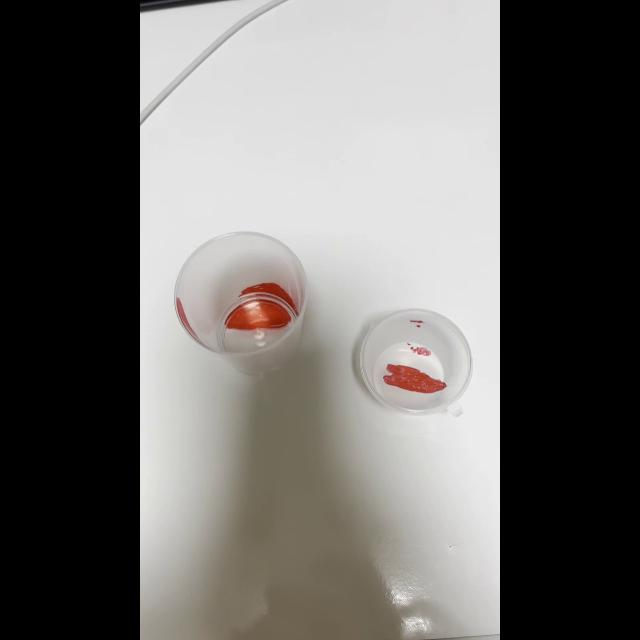dirty: (175, 233, 309, 374), (358, 310, 474, 414)
